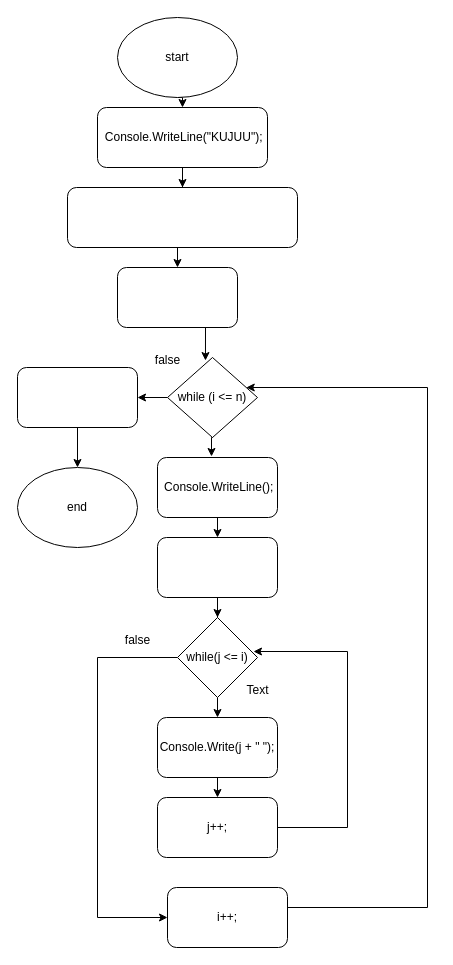
Some shapes in this 453 by 965 pixel diagram are drawn without their labels. Each missing label, with the centre of its shape:
Console.ReadKey();: pixel 77 397
int i = 1;: pixel 177 297
int j = 1;: pixel 217 567
int n = Convert.ToInt32(Console.ReadLine());: pixel 182 217
